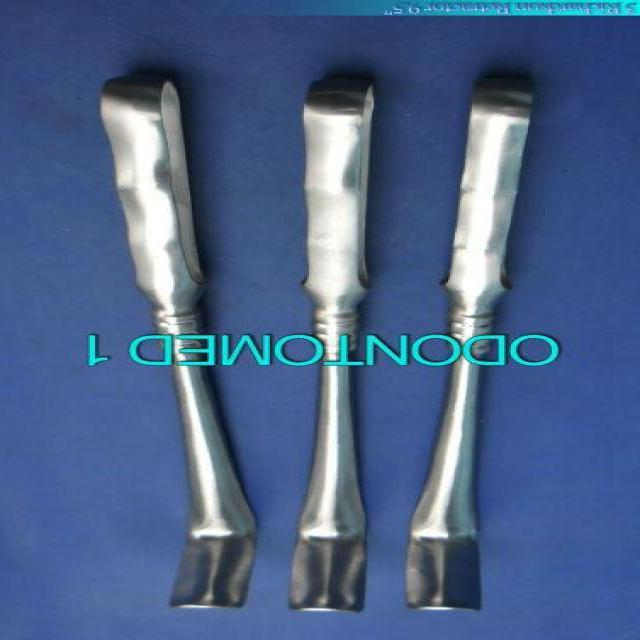Richardson: (90, 73, 268, 619), (397, 77, 545, 620), (276, 72, 388, 618)
